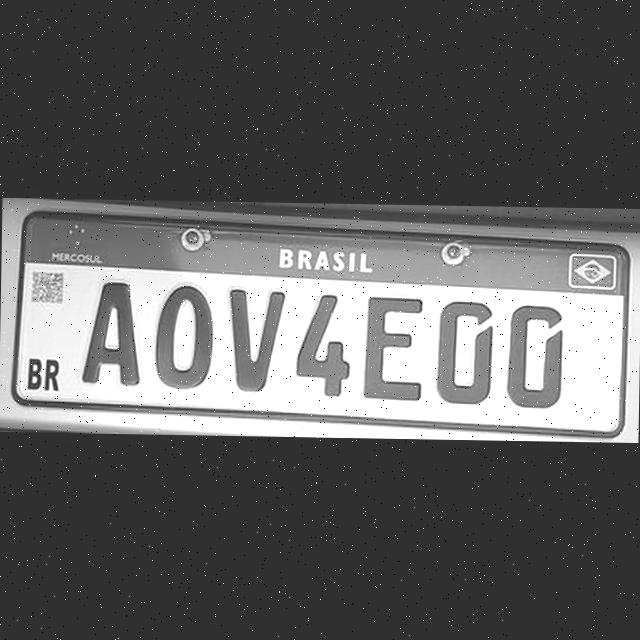Caractere: (361, 292, 426, 404), (430, 295, 494, 406), (152, 280, 216, 390), (293, 288, 356, 399), (82, 278, 144, 388), (504, 299, 566, 409), (226, 284, 285, 394)
Placa: (10, 206, 628, 436)
